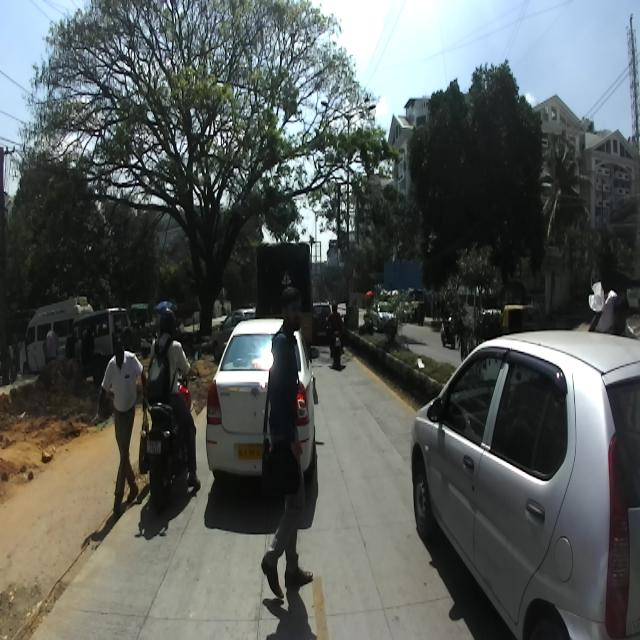car ahead at: (408, 326, 640, 640)
person ahead at: (264, 283, 314, 613), (92, 320, 143, 522)
